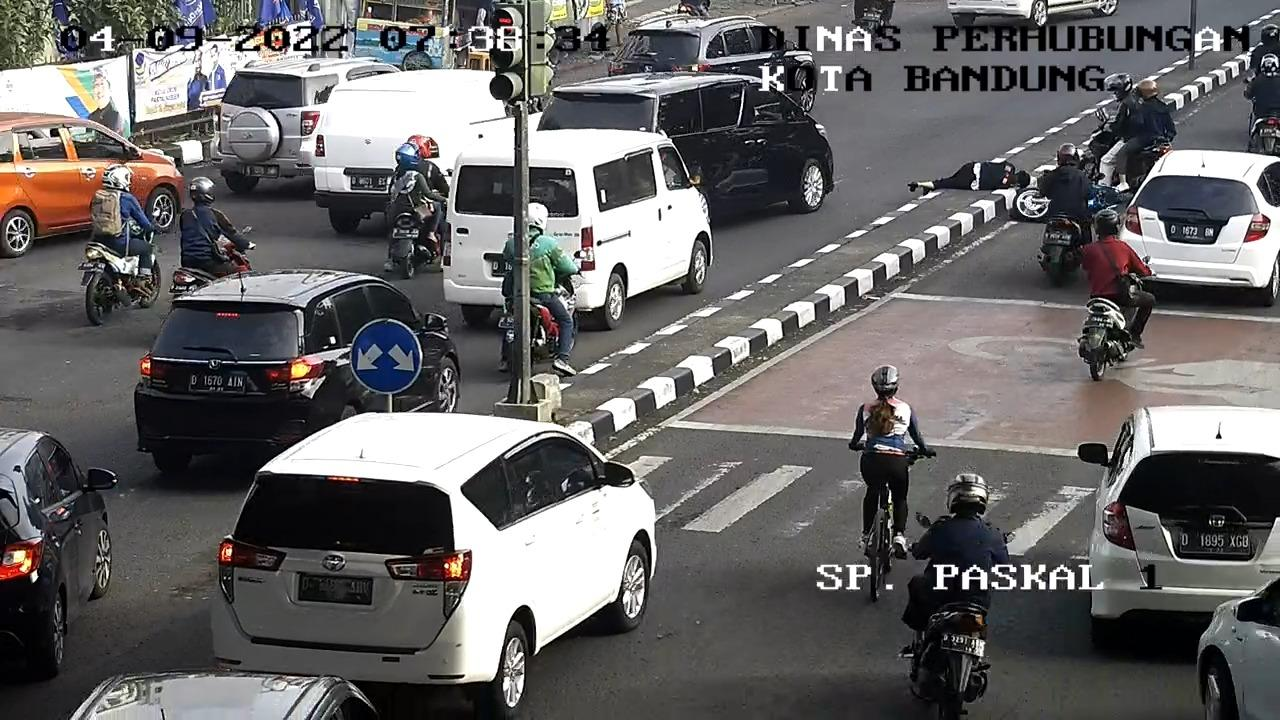accident: (899, 147, 1037, 206)
